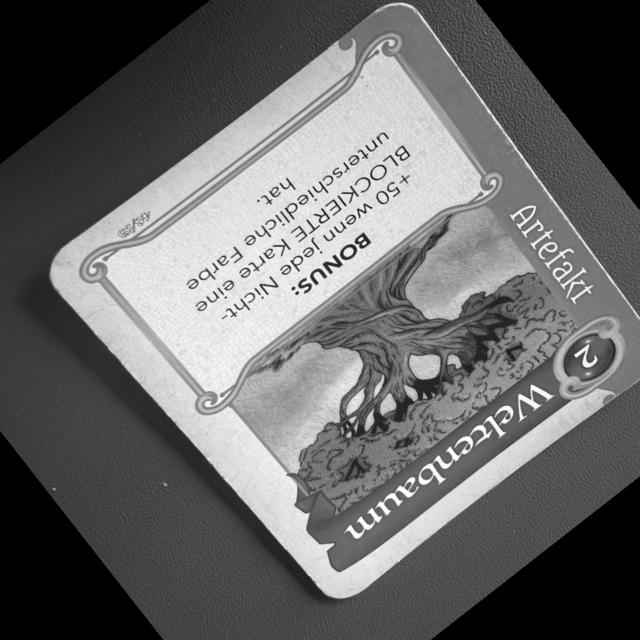World Tree: (34, 0, 640, 632)
